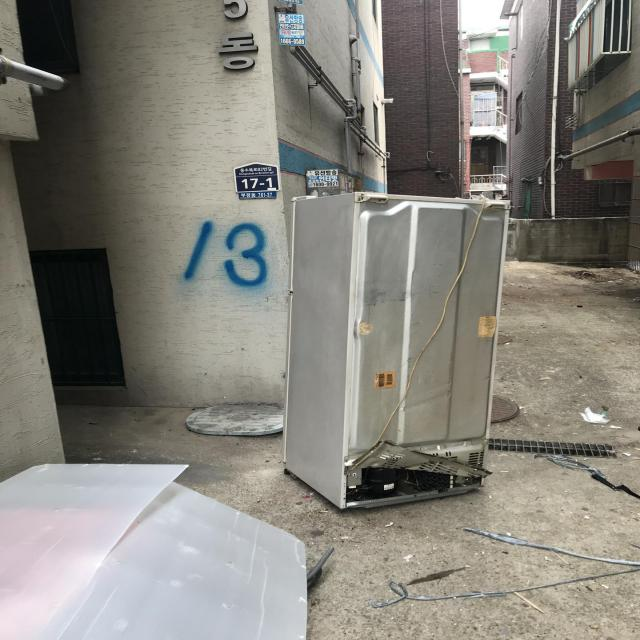refrigerator: (271, 188, 515, 515)
